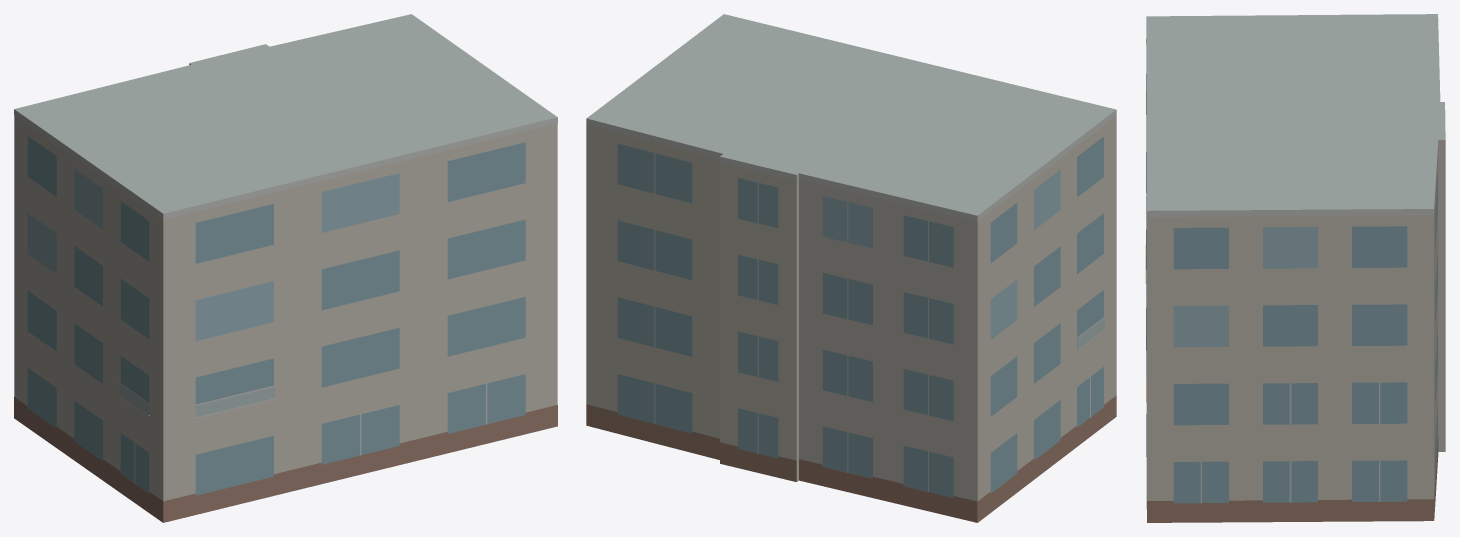
The model's file is survey-upis-32777147.glb.
3 views of the same model, side by side, from view 1: azimuth 30°, elevation 25°; view 2: azimuth 150°, elevation 25°; view 3: azimuth 270°, elevation 25° (orthographic).
Parts seen in each view (by area): view 1: survey-upis-32777147.tmp; view 2: survey-upis-32777147.tmp; view 3: survey-upis-32777147.tmp.
Boxes of the visible parts, x1=… form: survey-upis-32777147.tmp: x1=14, y1=14, x2=557, y2=522; survey-upis-32777147.tmp: x1=586, y1=14, x2=1116, y2=522; survey-upis-32777147.tmp: x1=1145, y1=14, x2=1445, y2=522.
Size of the model in its own units: 16.51 by 12.2 by 10.65.
